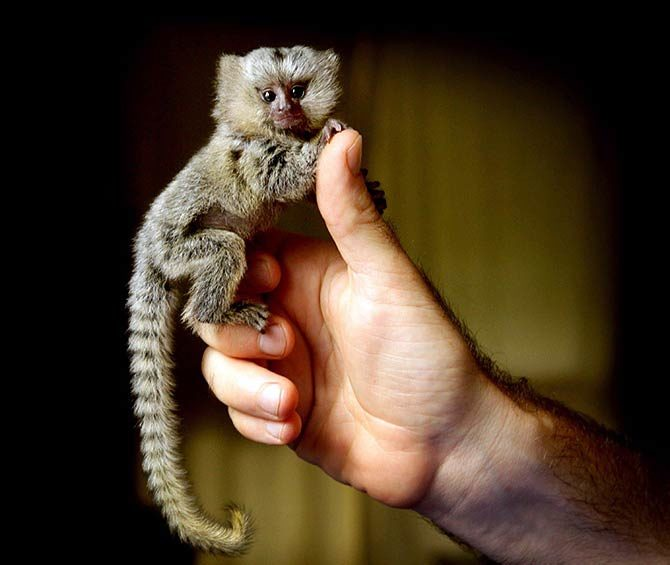PygmyMarmoset: (125, 45, 339, 285)
